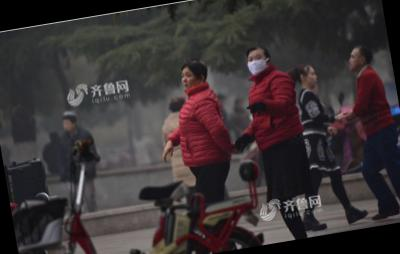with_mask: (245, 51, 269, 76)
without_mask: (178, 67, 201, 91), (346, 50, 362, 71), (304, 69, 320, 87)
